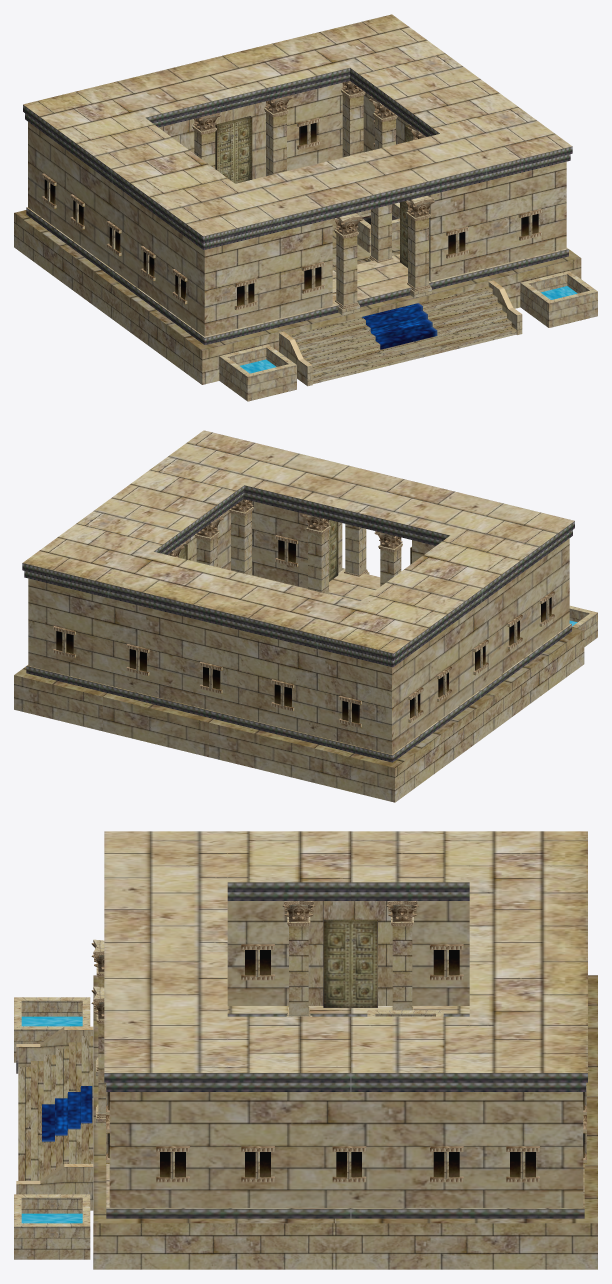
File: palace.dae
3 renders of one model, top to bottom at view 1: azimuth 30°, elevation 25°; view 2: azimuth 150°, elevation 25°; view 3: azimuth 270°, elevation 25°, orthographic. The views are drawn at different scales.
Visible parts, largest first — view 1: palace; view 2: palace; view 3: palace.
Part boxes in pixels (x1,y1,x2,y2): palace: [14, 14, 597, 401]; palace: [14, 430, 597, 802]; palace: [14, 831, 597, 1269].
Bounding box in the file's own units: 25.34 × 25.21 × 9.22.
